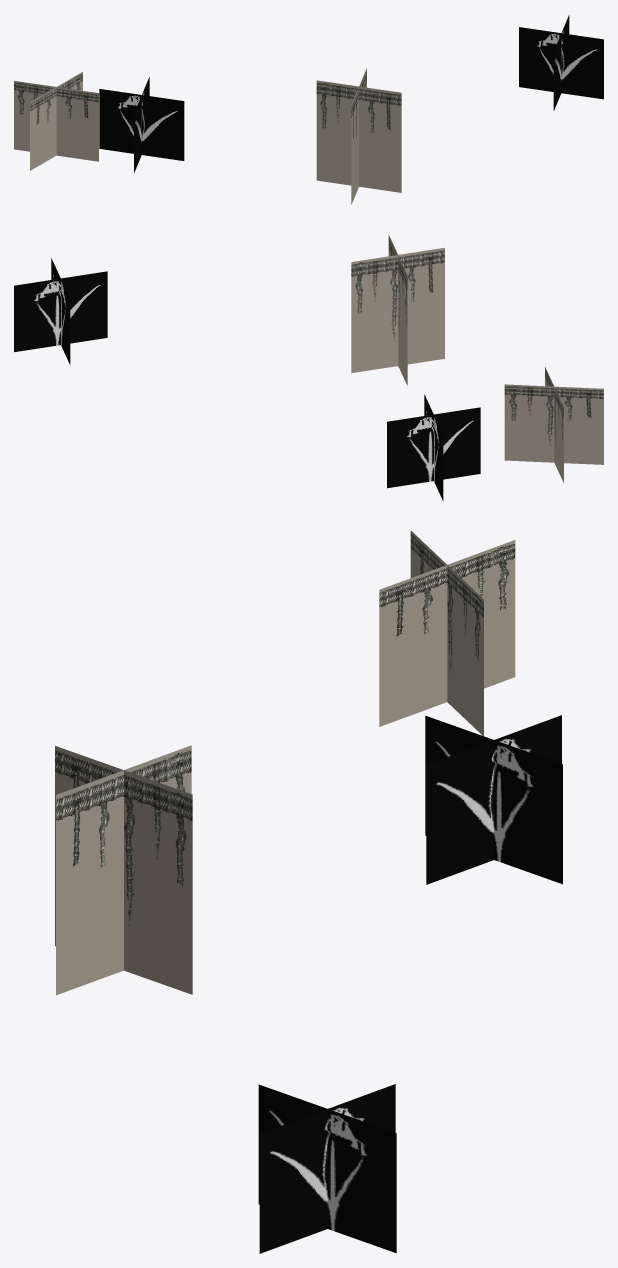
The picture shows the model from 3 angles, top to bottom: view 1: azimuth 30°, elevation 25°; view 2: azimuth 150°, elevation 25°; view 3: azimuth 270°, elevation 25°; orthographic projection. The views are drawn at different scales.
Visible parts, largest first — view 1: Object15; view 2: Object15; view 3: Object15.
Part boxes in pixels (x1,y1,x2,y2): Object15: [14, 15, 603, 204]; Object15: [14, 234, 603, 500]; Object15: [55, 530, 562, 1253].
Bounding box in the file's own units: 117 × 22.12 × 48.14.
